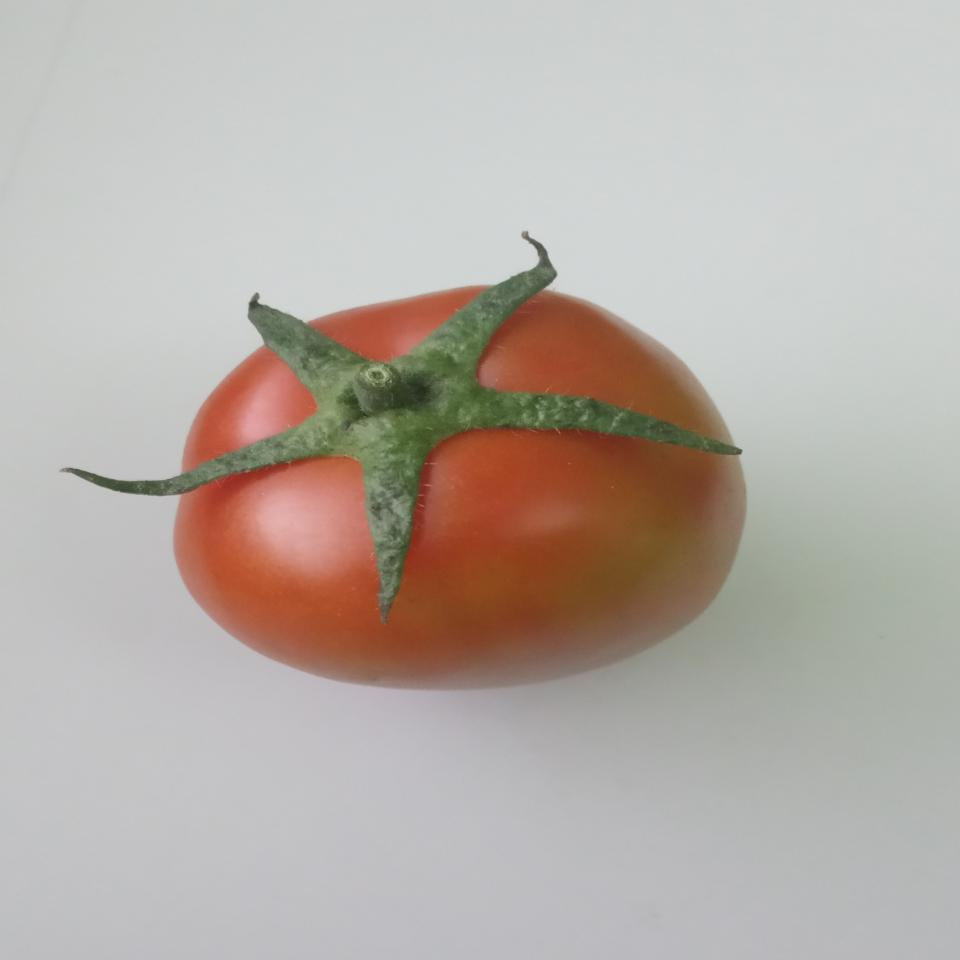Healthy: (164, 274, 758, 695)
